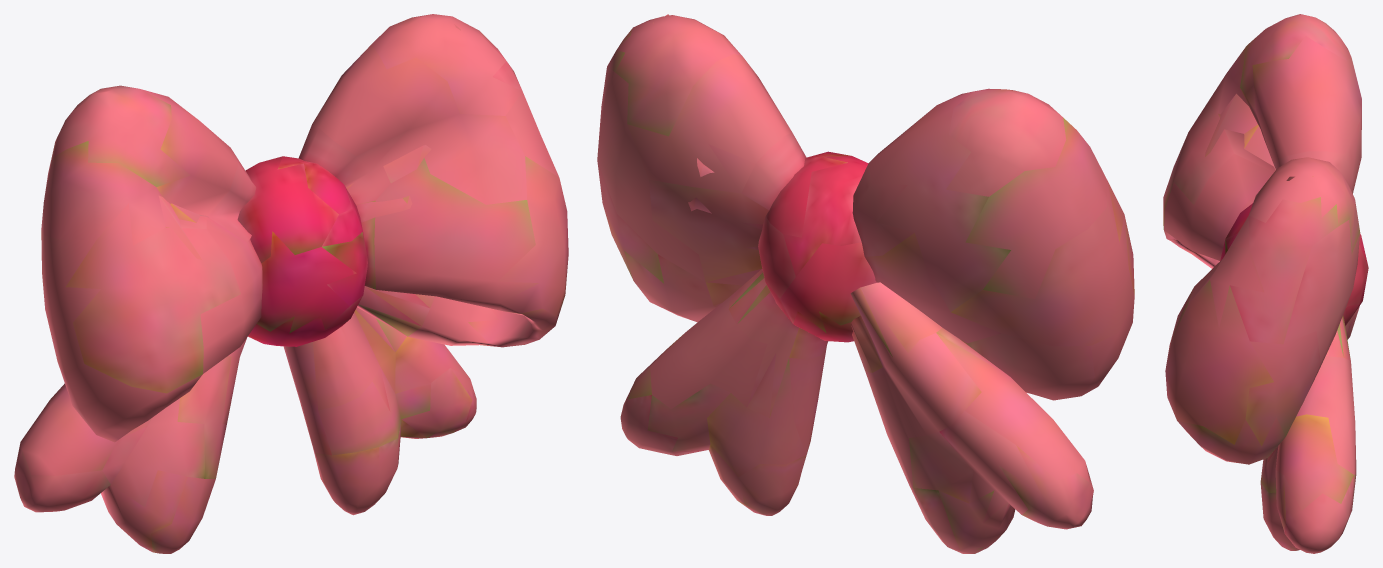
File: hat_ribbon.glb
3 views of the same model, side by side, from view 1: azimuth 30°, elevation 25°; view 2: azimuth 150°, elevation 25°; view 3: azimuth 270°, elevation 25° (orthographic). The views are drawn at different scales.
Bounding box in the file's own units: 0.4581 × 0.4196 × 0.1826.
Materials: 1 (1 with a texture image).
